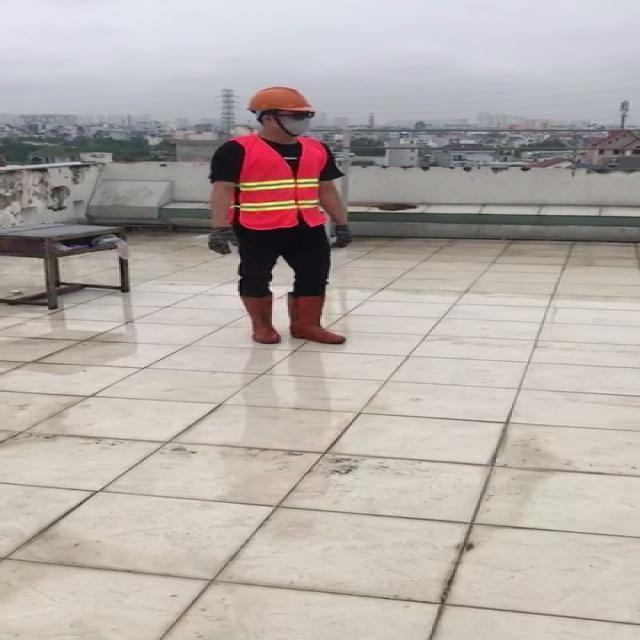gloves: (208, 226, 238, 256), (327, 223, 352, 251)
goggles: (276, 110, 314, 123)
helmet: (247, 84, 312, 114)
safety_vest: (233, 135, 329, 227)
